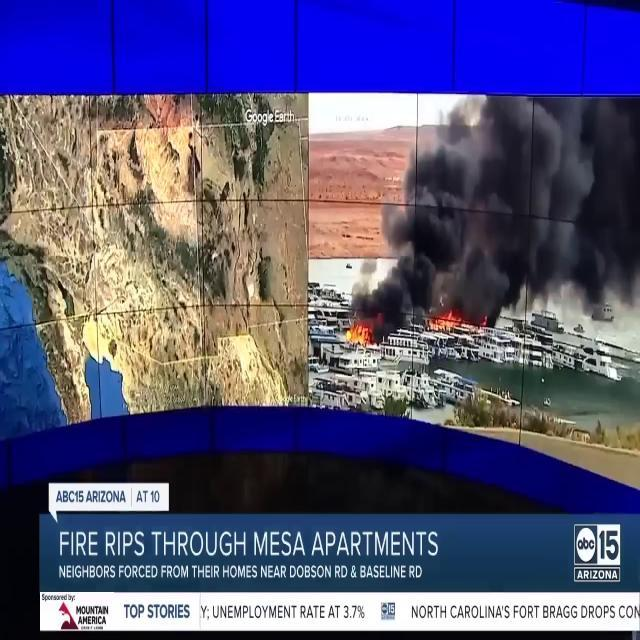Fire: (428, 305, 480, 335), (342, 316, 374, 348)
Smoke: (360, 96, 640, 326)
